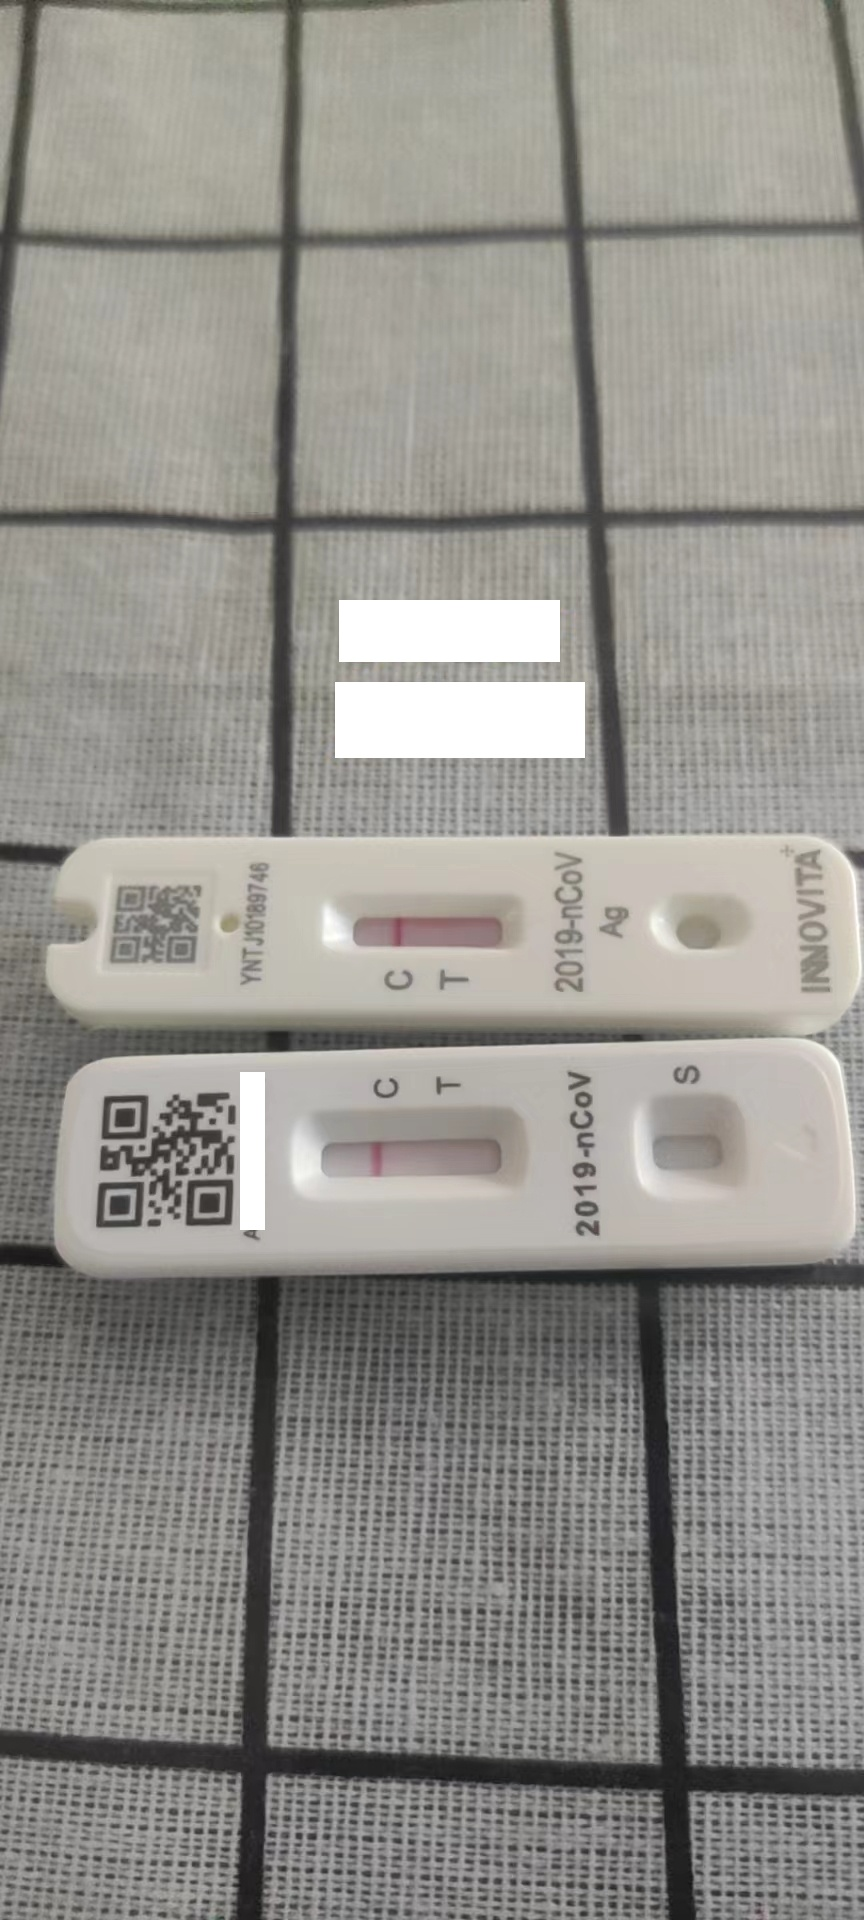negative: (292, 1109, 536, 1202), (326, 893, 529, 956)
